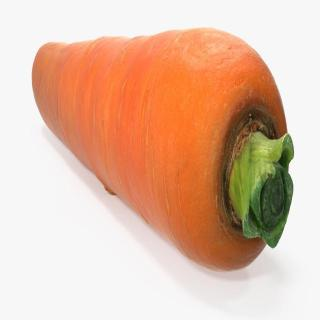carrot: (29, 26, 297, 276)
